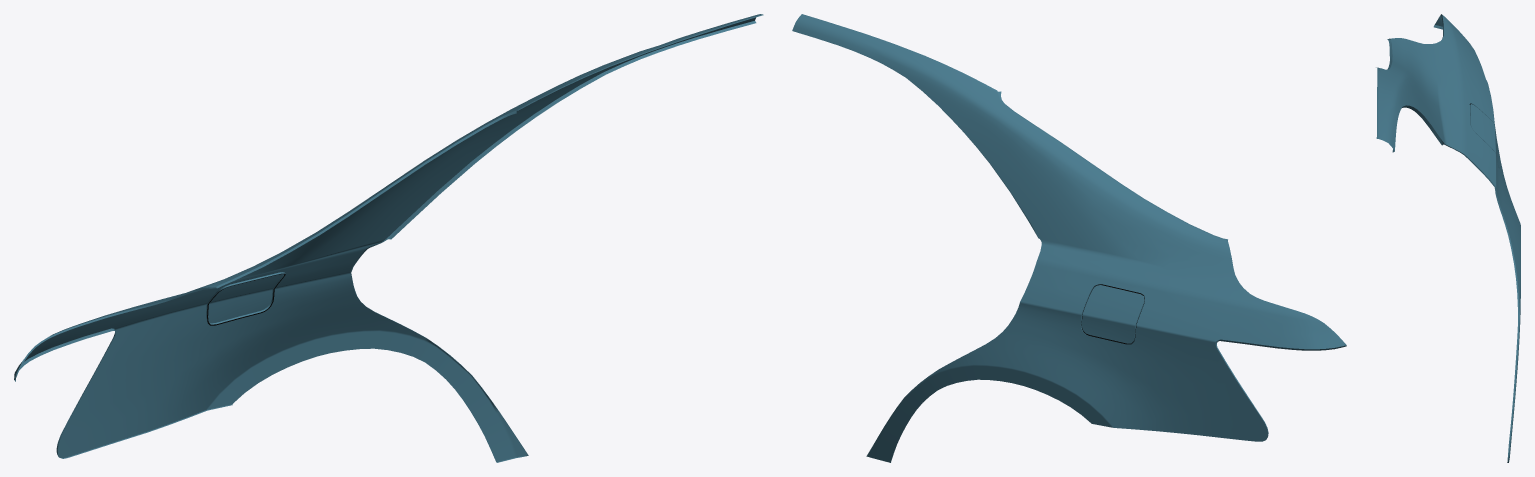
3 renders of one model, left to right at view 1: azimuth 30°, elevation 25°; view 2: azimuth 150°, elevation 25°; view 3: azimuth 270°, elevation 25°, orthographic. The views are drawn at different scales.
Parts seen in each view (by area): view 1: Y175_18_381B_L_1_DaS_Y175_18_381B_L, Y175_18_381B_L_1_DaS_Y175_18_381B_L_E; view 2: Y175_18_381B_L_1_DaS_Y175_18_381B_L, Y175_18_381B_L_1_DaS_Y175_18_381B_L_E; view 3: Y175_18_381B_L_1_DaS_Y175_18_381B_L, Y175_18_381B_L_1_DaS_Y175_18_381B_L_E.
Part boxes in pixels (box(x1,y1,x2,y2)): Y175_18_381B_L_1_DaS_Y175_18_381B_L: box(14, 14, 762, 462); Y175_18_381B_L_1_DaS_Y175_18_381B_L_E: box(14, 14, 763, 462); Y175_18_381B_L_1_DaS_Y175_18_381B_L: box(792, 14, 1346, 462); Y175_18_381B_L_1_DaS_Y175_18_381B_L_E: box(801, 14, 1346, 437); Y175_18_381B_L_1_DaS_Y175_18_381B_L: box(1378, 14, 1520, 461); Y175_18_381B_L_1_DaS_Y175_18_381B_L_E: box(1376, 14, 1519, 462).
Size of the model in its own units: 178 by 109 by 36.87.
